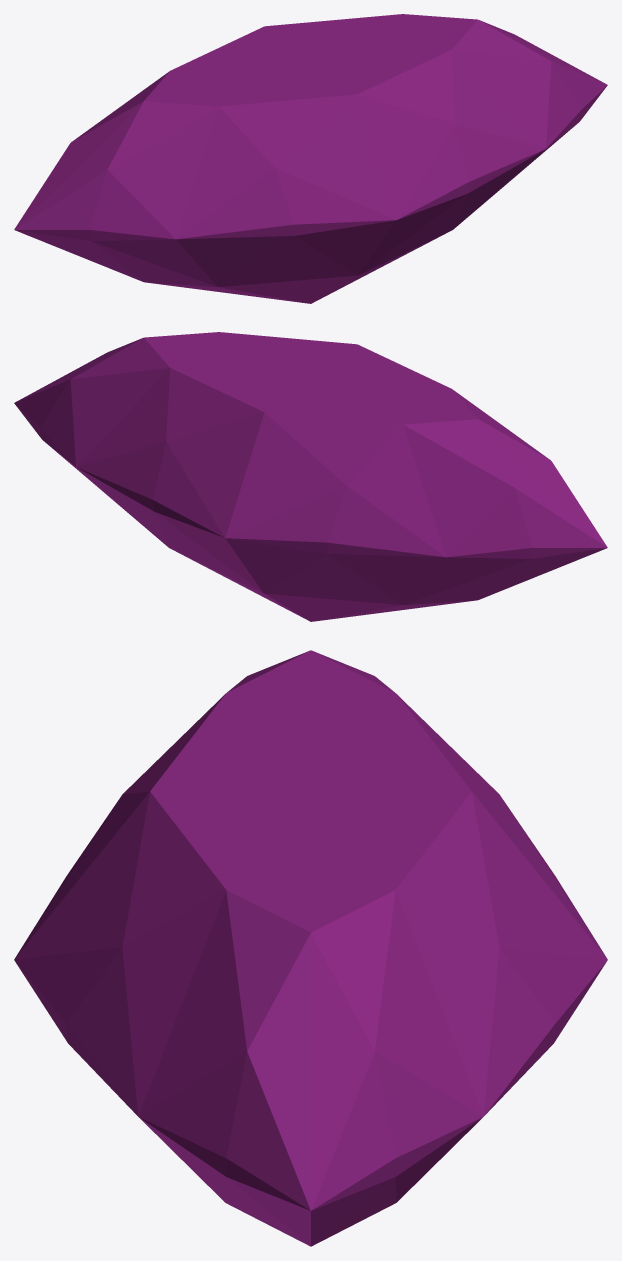
Rendered from Gem015.fbx.
3 views of the same model, one above another, from view 1: azimuth 30°, elevation 25°; view 2: azimuth 150°, elevation 25°; view 3: azimuth 270°, elevation 25° (orthographic). The views are drawn at different scales.
Parts seen in each view (by area): view 1: Gem015; view 2: Gem015; view 3: Gem015.
Boxes of the visible parts, x1,y1,x2,y2 form: Gem015: (14,14,607,303); Gem015: (14,332,607,621); Gem015: (14,650,607,1246).
Bounding box in the file's own units: 321 × 126 × 161.
